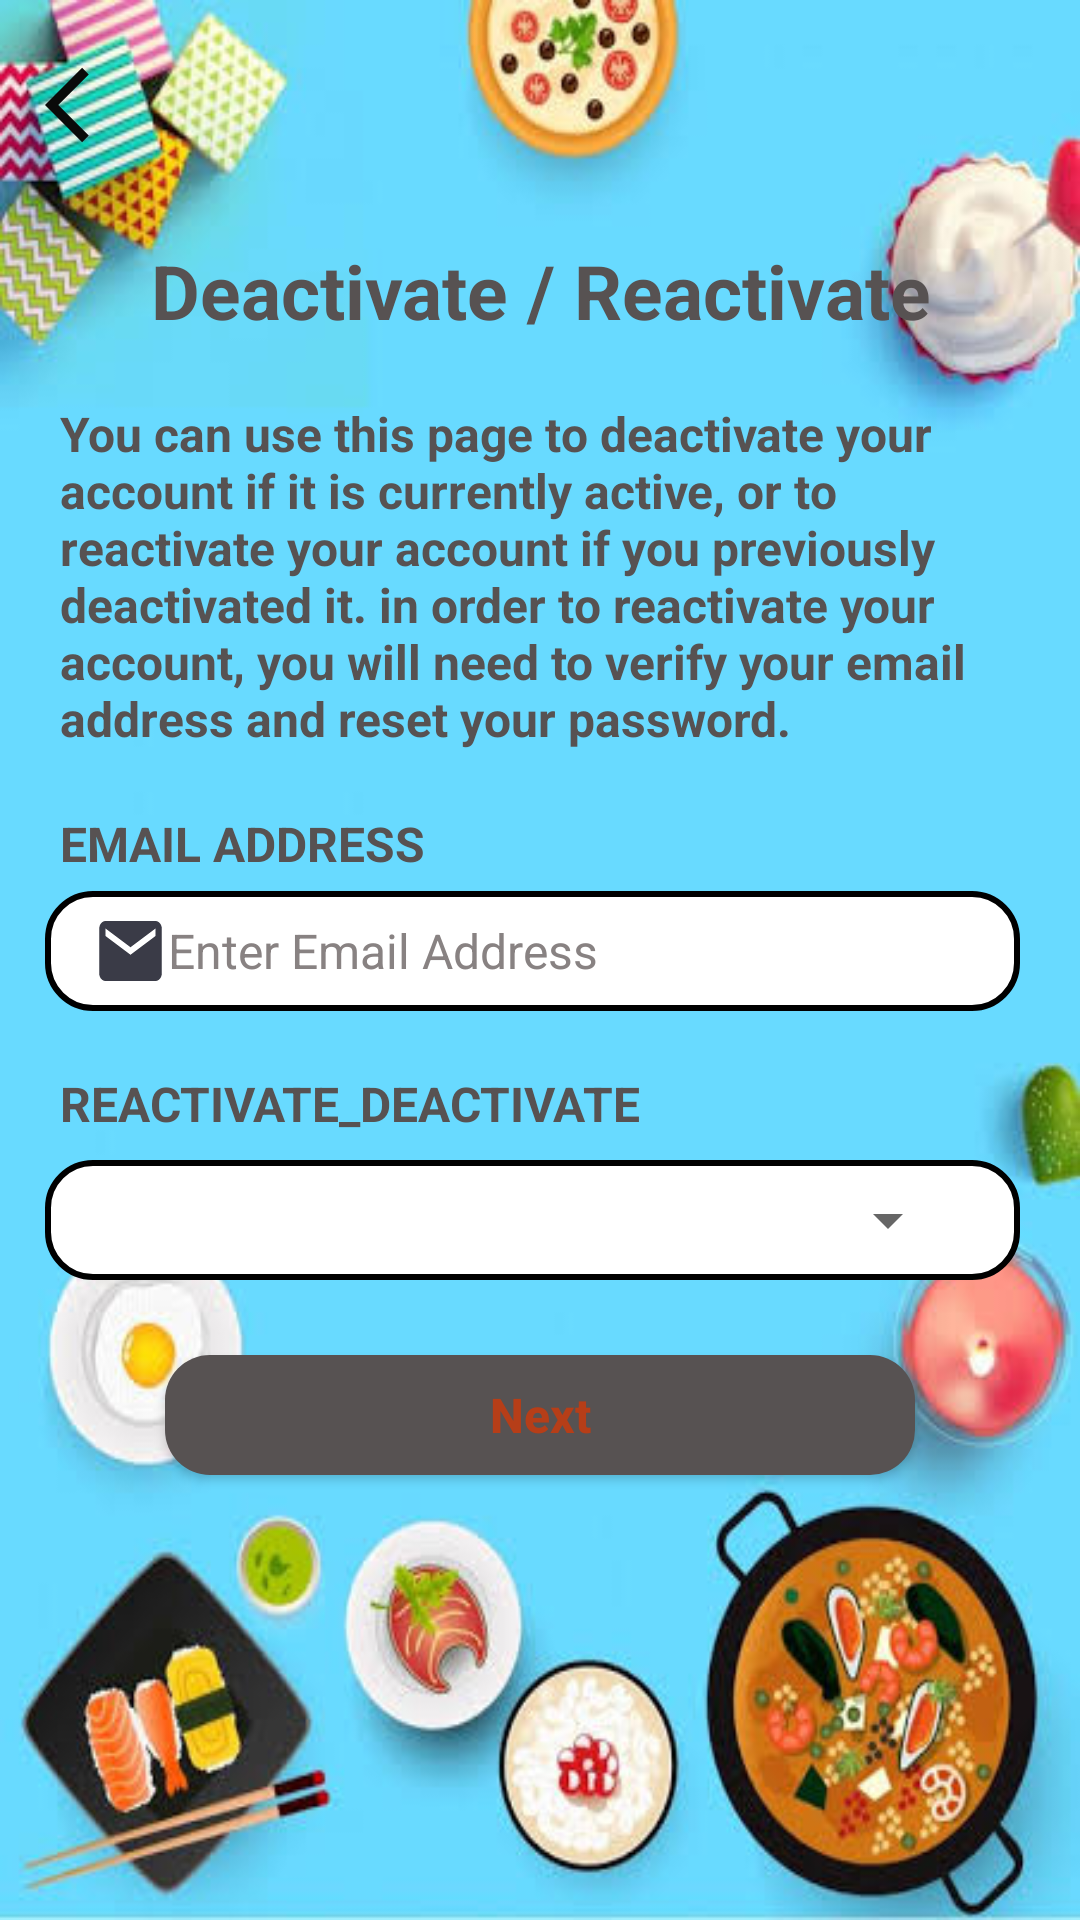

Icon click points for this 1080px x 1920px phone screenshot, format point (x, y):
arrow back: point (90, 105)
